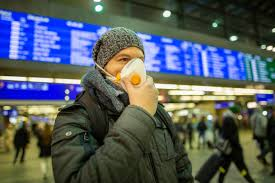mask: (86, 20, 155, 99)
